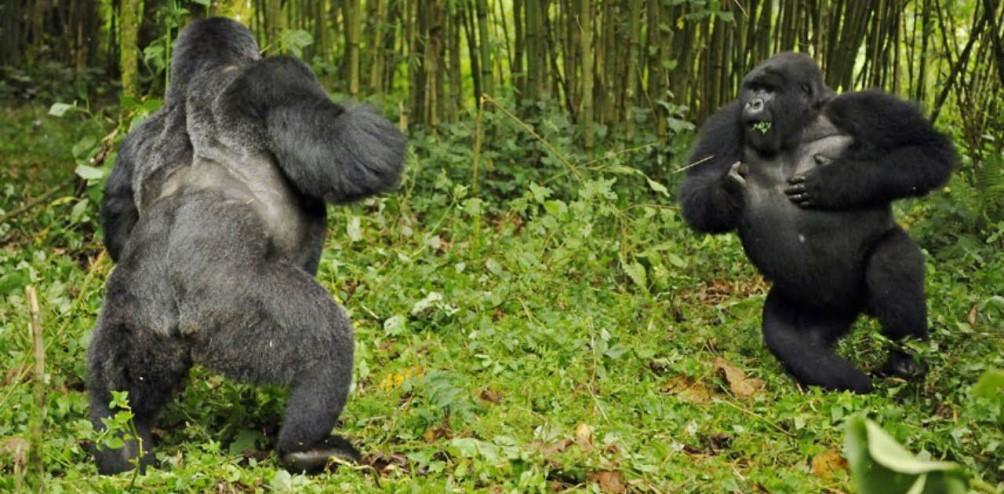Gorilla: (91, 21, 394, 494), (672, 48, 972, 403)
